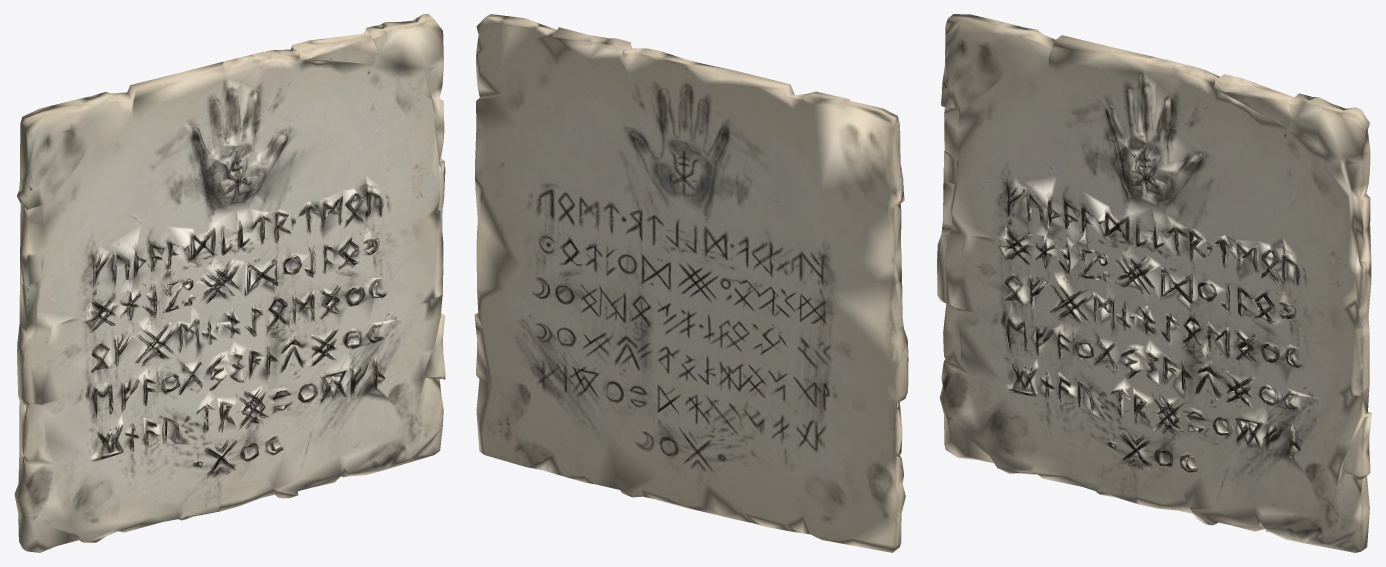
File: oath_carving.c4e052bc.glb
The picture shows the model from 3 angles, left to right: view 1: azimuth 30°, elevation 25°; view 2: azimuth 150°, elevation 25°; view 3: azimuth 330°, elevation 25°; orthographic projection.
Visible parts, largest first — view 1: oath_carving; view 2: oath_carving; view 3: oath_carving.
Boxes of the visible parts, left/top/right/bottom form: oath_carving: left=14, top=14, right=445, bottom=552; oath_carving: left=474, top=14, right=908, bottom=552; oath_carving: left=937, top=14, right=1371, bottom=552.
Bounding box in the file's own units: 1.01 × 1.01 × 0.0522.
Materials: 1 (1 with a texture image).
